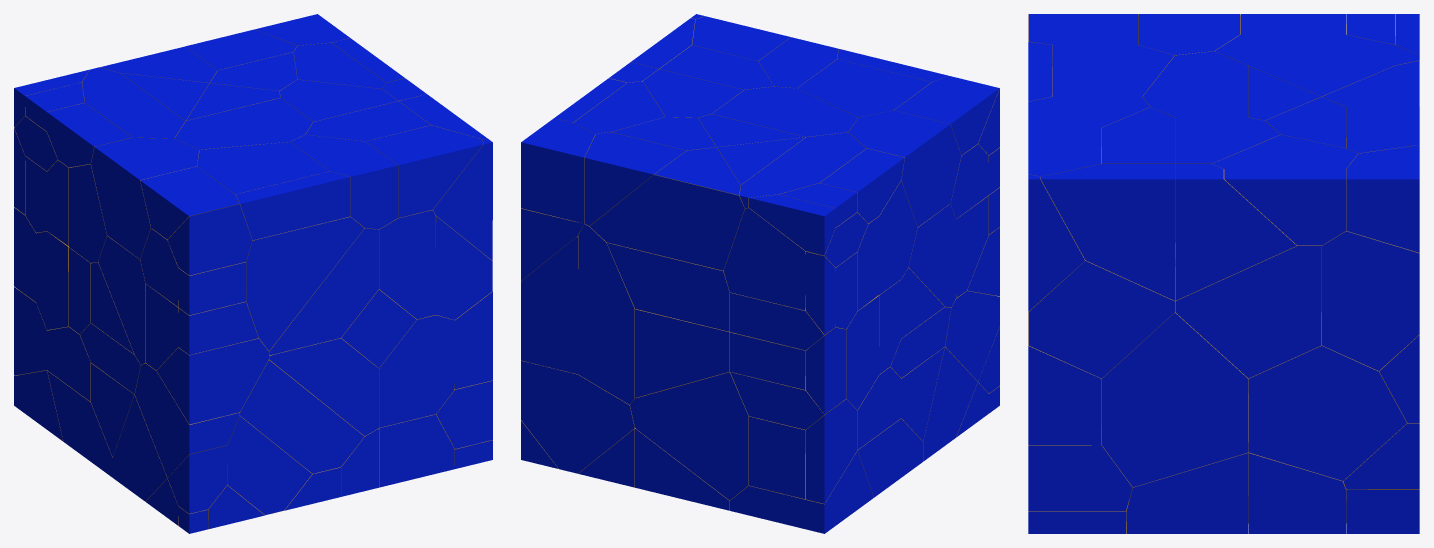
Rendered from cube1glb.glb.
3 views of the same model, side by side, from view 1: azimuth 30°, elevation 25°; view 2: azimuth 150°, elevation 25°; view 3: azimuth 270°, elevation 25° (orthographic). The views are drawn at different scales.
Visible parts, largest first — view 1: Cube_cell.080, Cube_cell.039, Cube_cell.034, Cube_cell.042, Cube_cell.018, Cube_cell.003, Cube_cell.036, Cube_cell.035, Cube_cell.054, Cube_cell.012, Cube_cell.098, Cube_cell.010 (+55 smaller); view 2: Cube_cell.058, Cube_cell.059, Cube_cell.073, Cube_cell.084, Cube_cell.034, Cube_cell.022, Cube_cell.051, Cube_cell.055, Cube_cell.043, Cube_cell.085, Cube_cell.028, Cube_cell.081 (+52 smaller); view 3: Cube_cell.093, Cube_cell.004, Cube_cell.091, Cube_cell.025, Cube_cell.097, Cube_cell.021, Cube_cell.062, Cube_cell.053, Cube_cell.060, Cube_cell.043, Cube_cell.069, Cube_cell.041 (+25 smaller).
Part boxes in pixels (left/top/right/bottom): Cube_cell.080: left=246, top=216, right=364, bottom=350; Cube_cell.039: left=239, top=360, right=364, bottom=473; Cube_cell.034: left=91, top=137, right=199, bottom=259; Cube_cell.042: left=377, top=315, right=454, bottom=427; Cube_cell.018: left=157, top=338, right=269, bottom=424; Cube_cell.003: left=269, top=338, right=378, bottom=435; Cube_cell.036: left=268, top=228, right=378, bottom=355; Cube_cell.035: left=365, top=125, right=483, bottom=217; Cube_cell.054: left=235, top=171, right=350, bottom=240; Cube_cell.012: left=369, top=210, right=435, bottom=319; Cube_cell.098: left=290, top=134, right=397, bottom=229; Cube_cell.010: left=227, top=416, right=311, bottom=515; Cube_cell.058: left=630, top=371, right=748, bottom=500; Cube_cell.059: left=590, top=175, right=744, bottom=270; Cube_cell.073: left=521, top=360, right=634, bottom=473; Cube_cell.084: left=578, top=224, right=635, bottom=404; Cube_cell.034: left=848, top=110, right=961, bottom=227; Cube_cell.022: left=607, top=242, right=729, bottom=331; Cube_cell.051: left=521, top=236, right=578, bottom=374; Cube_cell.055: left=635, top=309, right=729, bottom=397; Cube_cell.043: left=521, top=118, right=595, bottom=223; Cube_cell.085: left=723, top=208, right=805, bottom=310; Cube_cell.028: left=584, top=132, right=686, bottom=226; Cube_cell.081: left=712, top=86, right=857, bottom=137; Cube_cell.093: left=1102, top=266, right=1248, bottom=487; Cube_cell.004: left=1248, top=312, right=1406, bottom=480; Cube_cell.091: left=1040, top=164, right=1174, bottom=300; Cube_cell.025: left=1175, top=245, right=1321, bottom=378; Cube_cell.097: left=1322, top=220, right=1419, bottom=370; Cube_cell.021: left=1028, top=260, right=1174, bottom=378; Cube_cell.062: left=1175, top=164, right=1296, bottom=300; Cube_cell.053: left=1126, top=452, right=1248, bottom=533; Cube_cell.060: left=1224, top=169, right=1345, bottom=245; Cube_cell.043: left=1346, top=145, right=1419, bottom=252; Cube_cell.069: left=1248, top=452, right=1345, bottom=533; Cube_cell.041: left=1028, top=425, right=1132, bottom=511.
Size of the model in its own units: 2 by 2 by 2.
